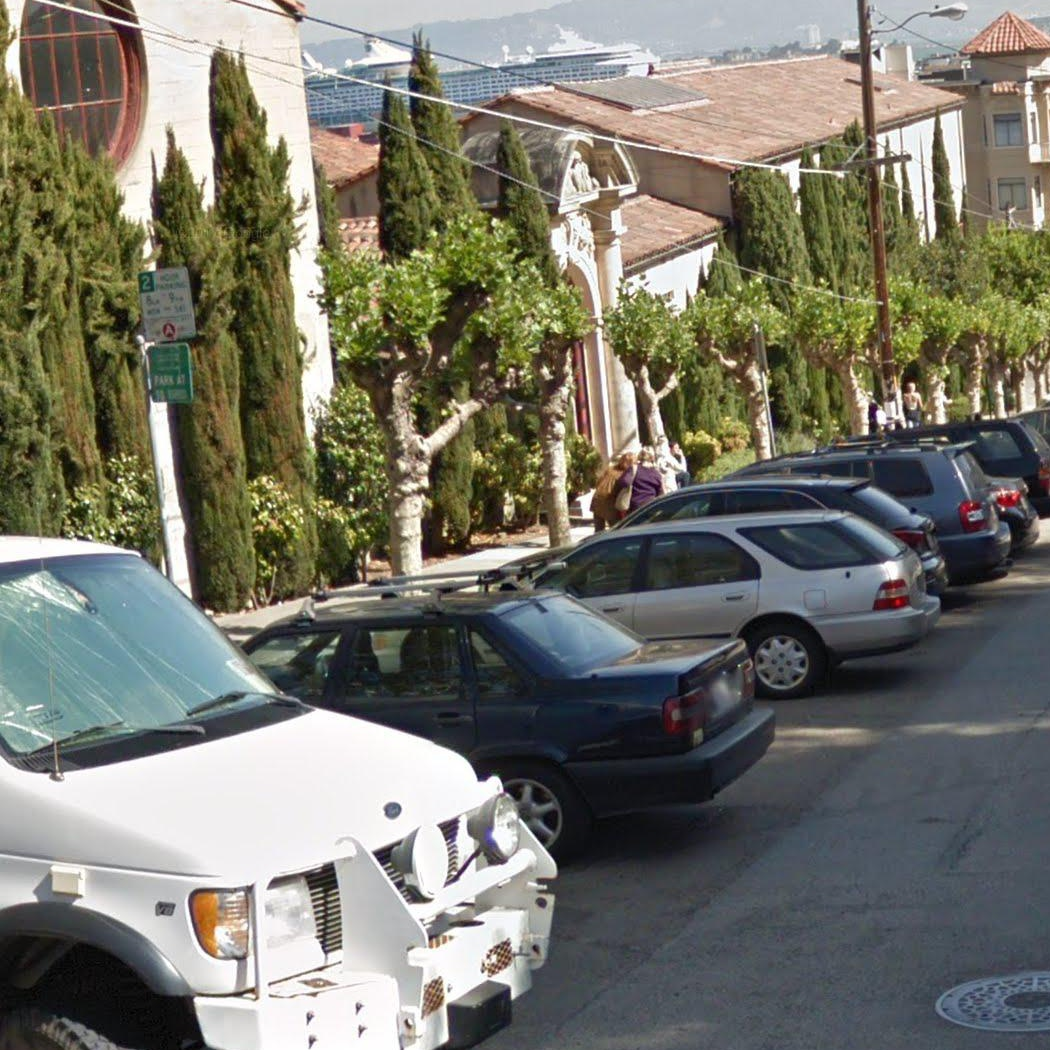2 Hour Parking: (138, 268, 196, 341)
